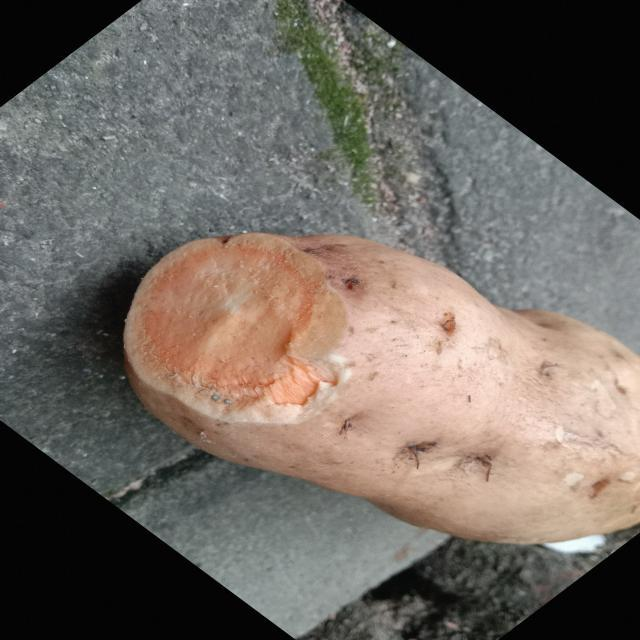Healthy Sweet Potato: (135, 234, 345, 405)
